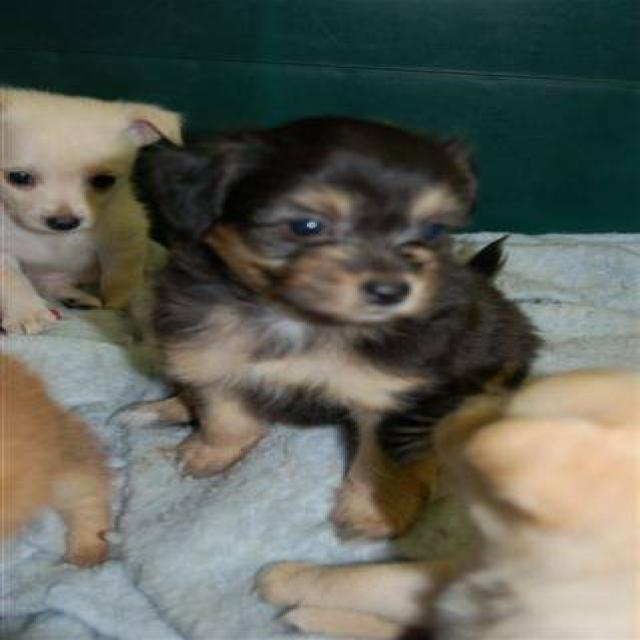dog: (110, 114, 544, 541), (253, 366, 638, 639), (0, 83, 185, 345)
